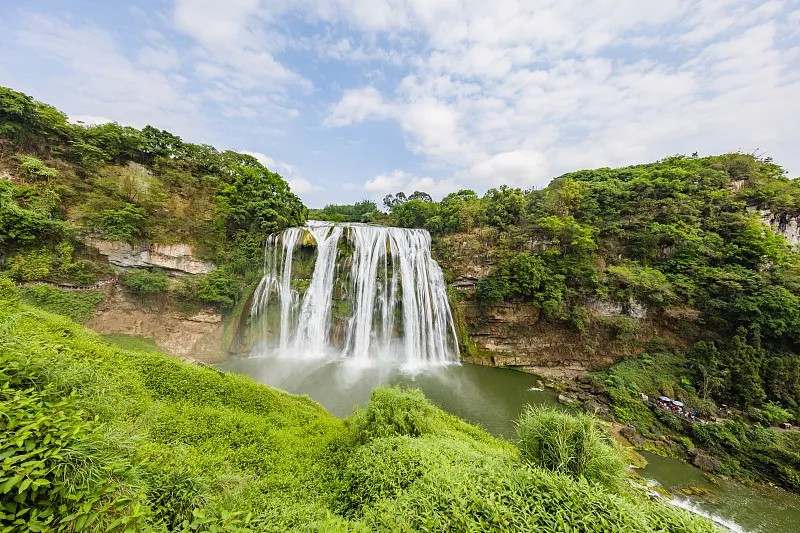Huangguoshu: (250, 221, 463, 366)
